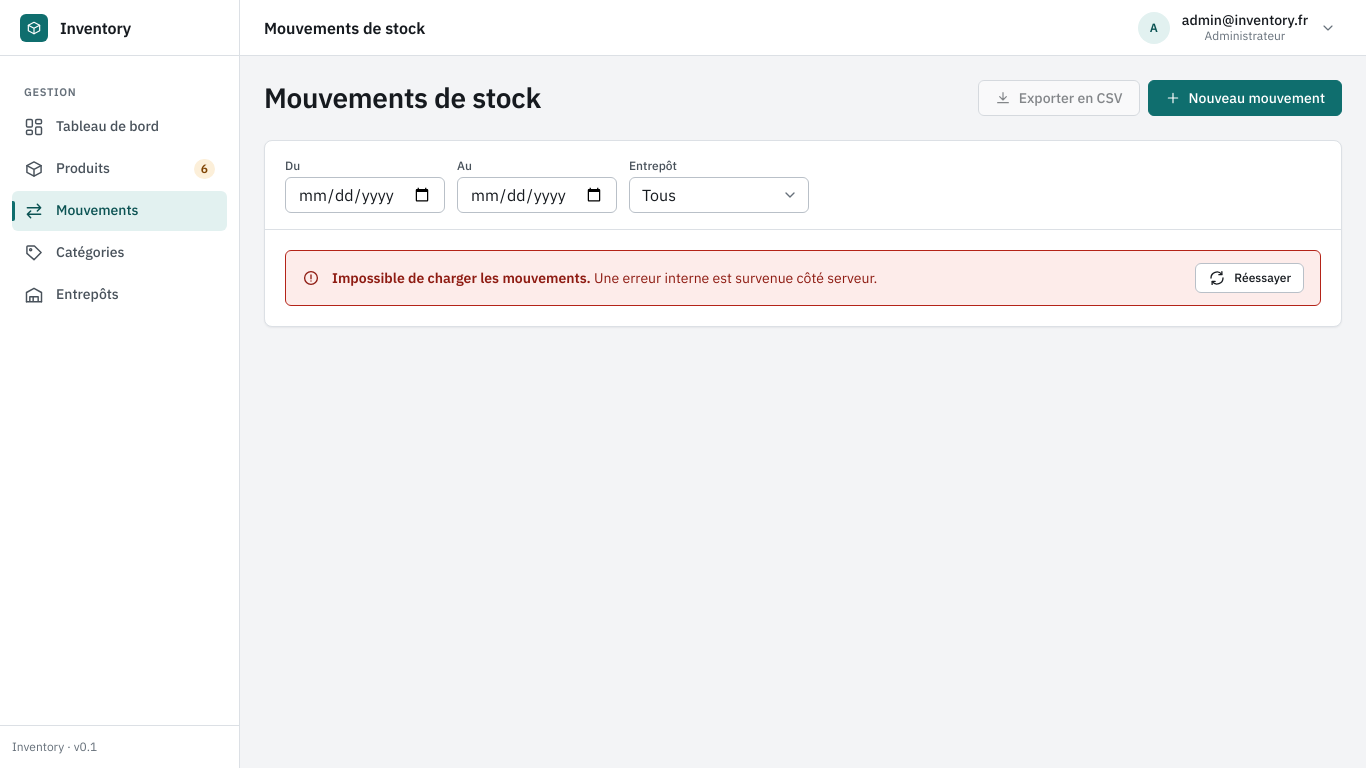
MovementsPage › shows an error banner with a retry
Expected: the heading "Mouvements de stock" is shown, [264,80,541,115]
Expected: the message shows "Impossible de charger les mouvements. Une erreur interne est survenue côté serveur.", [285,250,1321,306]
Click the button "Réessayer".
click(1250, 278)  # box [1195,263,1304,293]
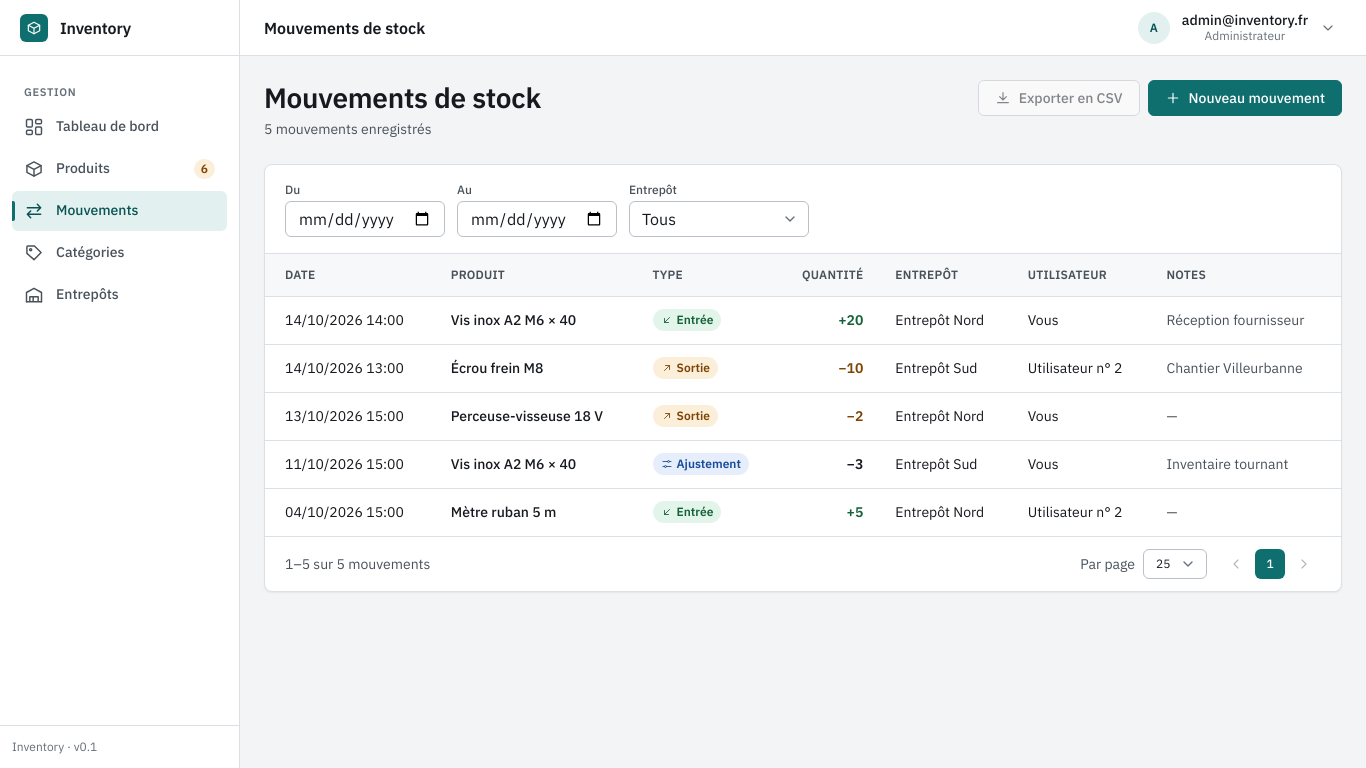
Expected: the text "5 mouvements enregistrés" is shown, [264,120,432,138]
Expected: the message is gone
